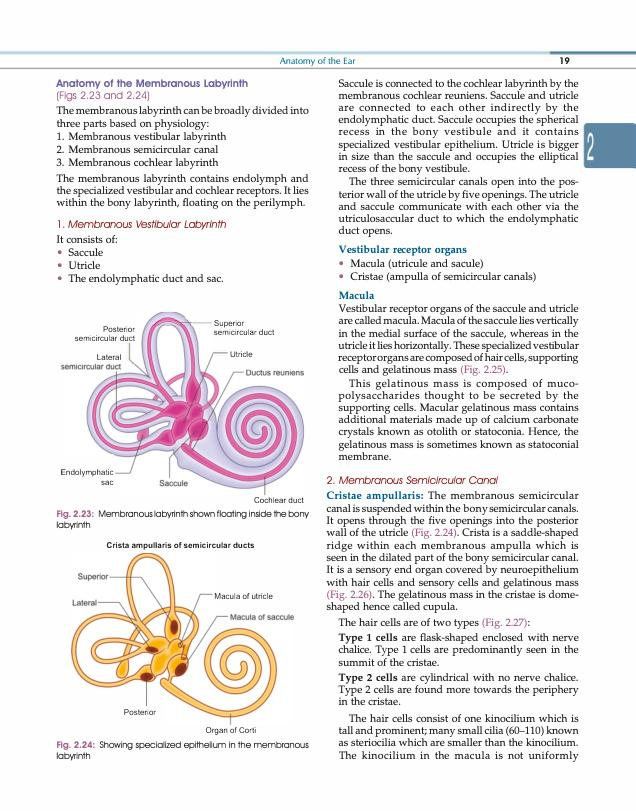caption: (55, 508, 310, 531), (55, 739, 310, 761)
header: (278, 56, 356, 67)
image: (52, 305, 311, 507), (58, 534, 305, 736)
list: (56, 246, 225, 286), (55, 131, 227, 169), (337, 258, 538, 285)
sub-section-heading: (55, 77, 249, 90), (57, 218, 227, 231), (326, 474, 499, 485), (337, 243, 468, 257), (326, 490, 424, 503), (338, 290, 376, 301)
text: (325, 489, 581, 764), (337, 77, 579, 239), (337, 302, 580, 461), (55, 172, 310, 210), (55, 105, 309, 131), (55, 234, 119, 244)
